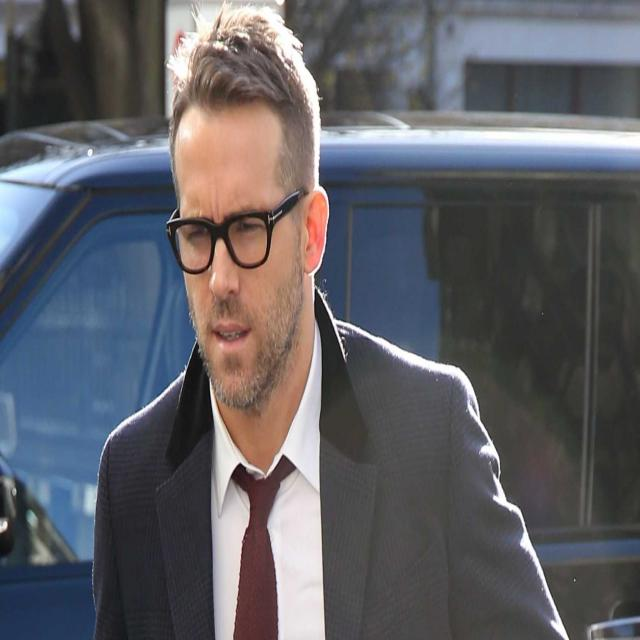Glasses: (165, 191, 299, 278)
